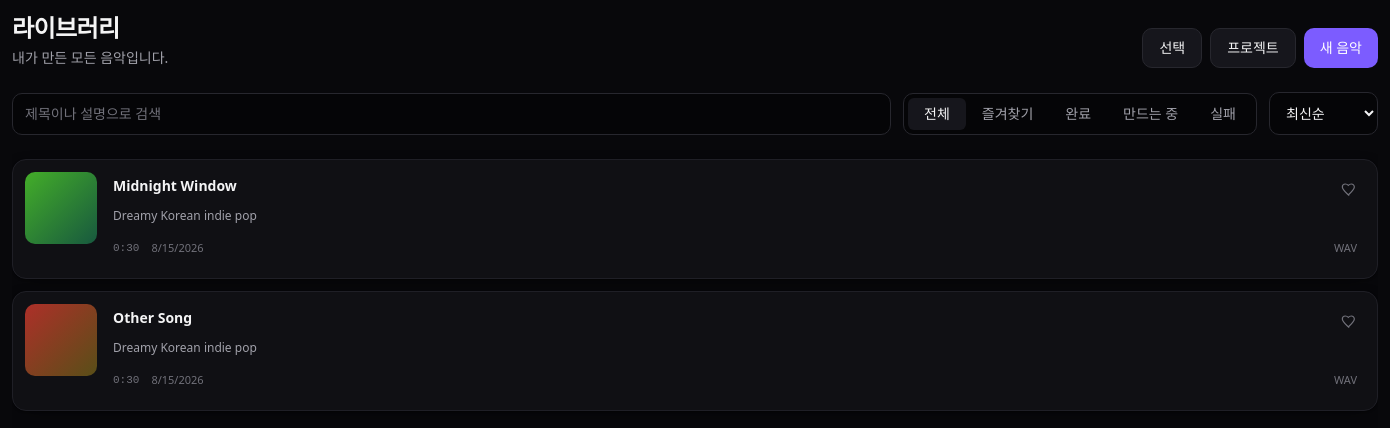
Test case: library › filters by title
expect the text "Midnight Window" is shown: met, box [113,176,237,196]
Type "Other" into the search field labelled "제목이나 설명으로 검색" at (452, 114), box [12,92,891,134]
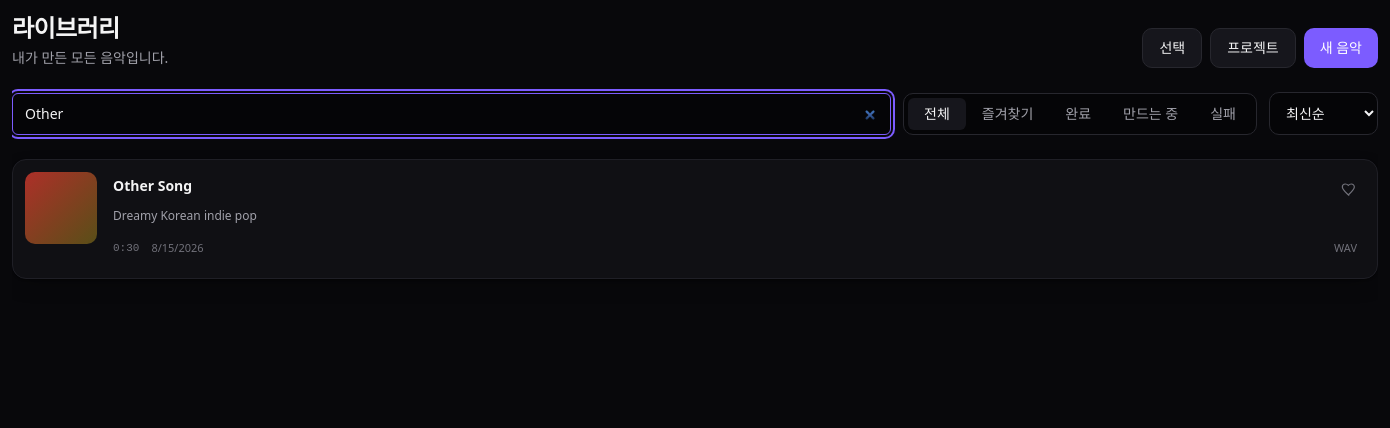
expect the text "Other Song" is shown: met, box [113,176,192,196]
expect the link "Midnight Window" is gone: met
